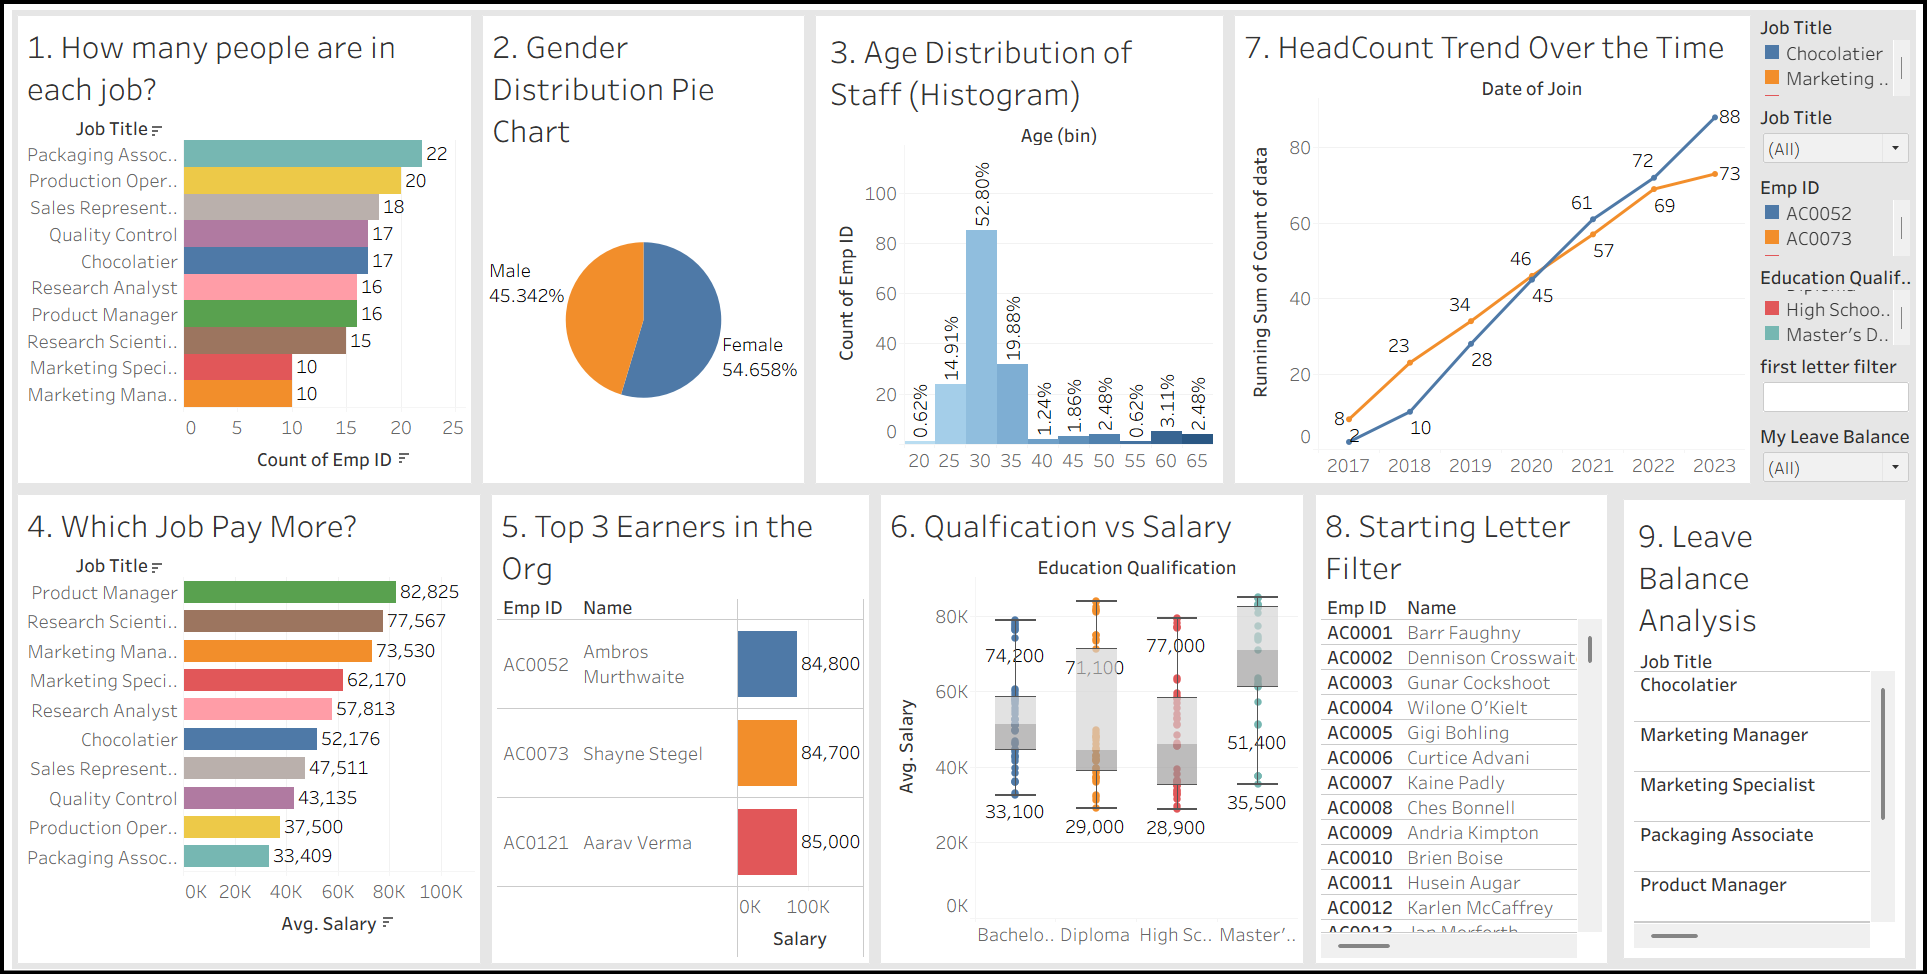

The dashboard page shown, as its layout file describes it:
{"tool":"tableau","page":{"name":"Dashboard","canvas":[1000,1000],"units":"permille","ordinal":0},"visuals":[{"type":"worksheet","title":"1. How many people are in each job?","mark":"Automatic","rows":["Job Title"],"cols":["Emp ID"],"box":[4.2,10.7,247.1,489.2]},{"type":"worksheet","title":"2. Gender Distribution Pie Chart","mark":"Pie","box":[251.3,10.7,176.9,489.2]},{"type":"worksheet","title":"3. Age Distribution of Staff (Histogram)","mark":"Automatic","rows":["Emp ID"],"cols":["Age (bin)"],"box":[428.3,10.7,222.6,489.2]},{"type":"worksheet","title":"7. HeadCount Trend Over the Time","mark":"Line","rows":["data_2512A8B1A7B541509627E2174720C861"],"cols":["Date of Join"],"box":[650.9,10.7,259.8,489.2]},{"type":"legend","title":"1. How many people are in each job?","param":"[federated.18z20380quqbmt1chwkc51tsdnu3].[none:Job Title:nk]","box":[910.7,10.7,85,88.5]},{"type":"filter","title":"5. Top 3 Earners in the Org","param":"[federated.18z20380quqbmt1chwkc51tsdnu3].[none:Job Title:nk]","box":[910.7,99.2,85,88.5]},{"type":"legend","title":"5. Top 3 Earners in the Org","param":"[federated.18z20380quqbmt1chwkc51tsdnu3].[none:Emp ID:nk]","box":[910.7,187.6,85,46.9]},{"type":"legend","title":"6. Qualfication vs Salary","param":"[federated.18z20380quqbmt1chwkc51tsdnu3].[none:Education Qualification:nk]","box":[910.7,234.5,85,88.5]},{"type":"filter","title":"8. Starting Letter Filter","param":"[federated.18z20380quqbmt1chwkc51tsdnu3].[none:Calculation_354658509716676610:nk","box":[910.7,323,85,88.5]},{"type":"filter","title":"9. Leave Balance Analysis","param":"[federated.18z20380quqbmt1chwkc51tsdnu3].[none:Calculation_354658509720322051:ok","box":[910.7,411.4,85,88.5]},{"type":"worksheet","title":"4. Which Job Pay More?","mark":"Automatic","rows":["Job Title"],"cols":["Salary"],"box":[4.2,499.9,247,489.4]},{"type":"worksheet","title":"5. Top 3 Earners in the Org","mark":"Automatic","rows":["Emp ID","Name"],"cols":["Salary"],"box":[251.2,499.9,206.7,489.4]},{"type":"worksheet","title":"6. Qualfication vs Salary","mark":"Circle","rows":["Salary"],"cols":["Education Qualification"],"box":[457.9,499.9,218.8,489.4]},{"type":"worksheet","title":"8. Starting Letter Filter","mark":"Automatic","rows":["Emp ID","Name","Job Title","Gender","Salary"],"box":[676.7,499.9,161,489.4]},{"type":"worksheet","title":"9. Leave Balance Analysis","mark":"Automatic","rows":["Job Title","Gender"],"box":[837.7,499.9,158,489.4]}]}

Visuals, with their boxes on the dashboard's canvas, which has no fixed pixel size, in thousandths of its width and height (x1, y1, x2, y2). These are canvas units, not pixel positions in the 1927x974 screenshot, which may show the page scaled, cropped or inside an application window:
"1. How many people are in each job?" worksheet: (x1=4, y1=11, x2=251, y2=500)
"2. Gender Distribution Pie Chart" worksheet (Pie marks): (x1=251, y1=11, x2=428, y2=500)
"3. Age Distribution of Staff (Histogram)" worksheet: (x1=428, y1=11, x2=651, y2=500)
"7. HeadCount Trend Over the Time" worksheet (Line marks): (x1=651, y1=11, x2=911, y2=500)
"1. How many people are in each job?" legend: (x1=911, y1=11, x2=996, y2=99)
"5. Top 3 Earners in the Org" filter: (x1=911, y1=99, x2=996, y2=188)
"5. Top 3 Earners in the Org" legend: (x1=911, y1=188, x2=996, y2=234)
"6. Qualfication vs Salary" legend: (x1=911, y1=234, x2=996, y2=323)
"8. Starting Letter Filter" filter: (x1=911, y1=323, x2=996, y2=412)
"9. Leave Balance Analysis" filter: (x1=911, y1=411, x2=996, y2=500)
"4. Which Job Pay More?" worksheet: (x1=4, y1=500, x2=251, y2=989)
"5. Top 3 Earners in the Org" worksheet: (x1=251, y1=500, x2=458, y2=989)
"6. Qualfication vs Salary" worksheet (Circle marks): (x1=458, y1=500, x2=677, y2=989)
"8. Starting Letter Filter" worksheet: (x1=677, y1=500, x2=838, y2=989)
"9. Leave Balance Analysis" worksheet: (x1=838, y1=500, x2=996, y2=989)
